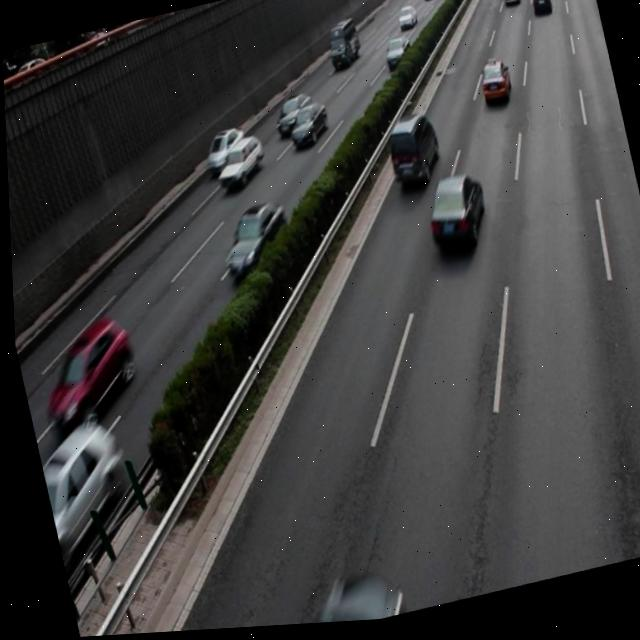car: (30, 416, 135, 567), (26, 313, 141, 439), (210, 199, 293, 286), (416, 173, 489, 259), (207, 135, 267, 194), (196, 126, 248, 178), (282, 103, 330, 152), (268, 94, 314, 143), (473, 62, 513, 114)
truck: (378, 111, 443, 194)
